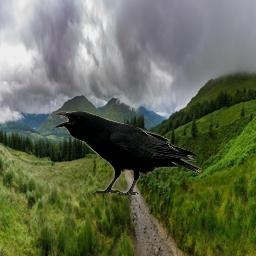Crow: (55, 111, 202, 197)
